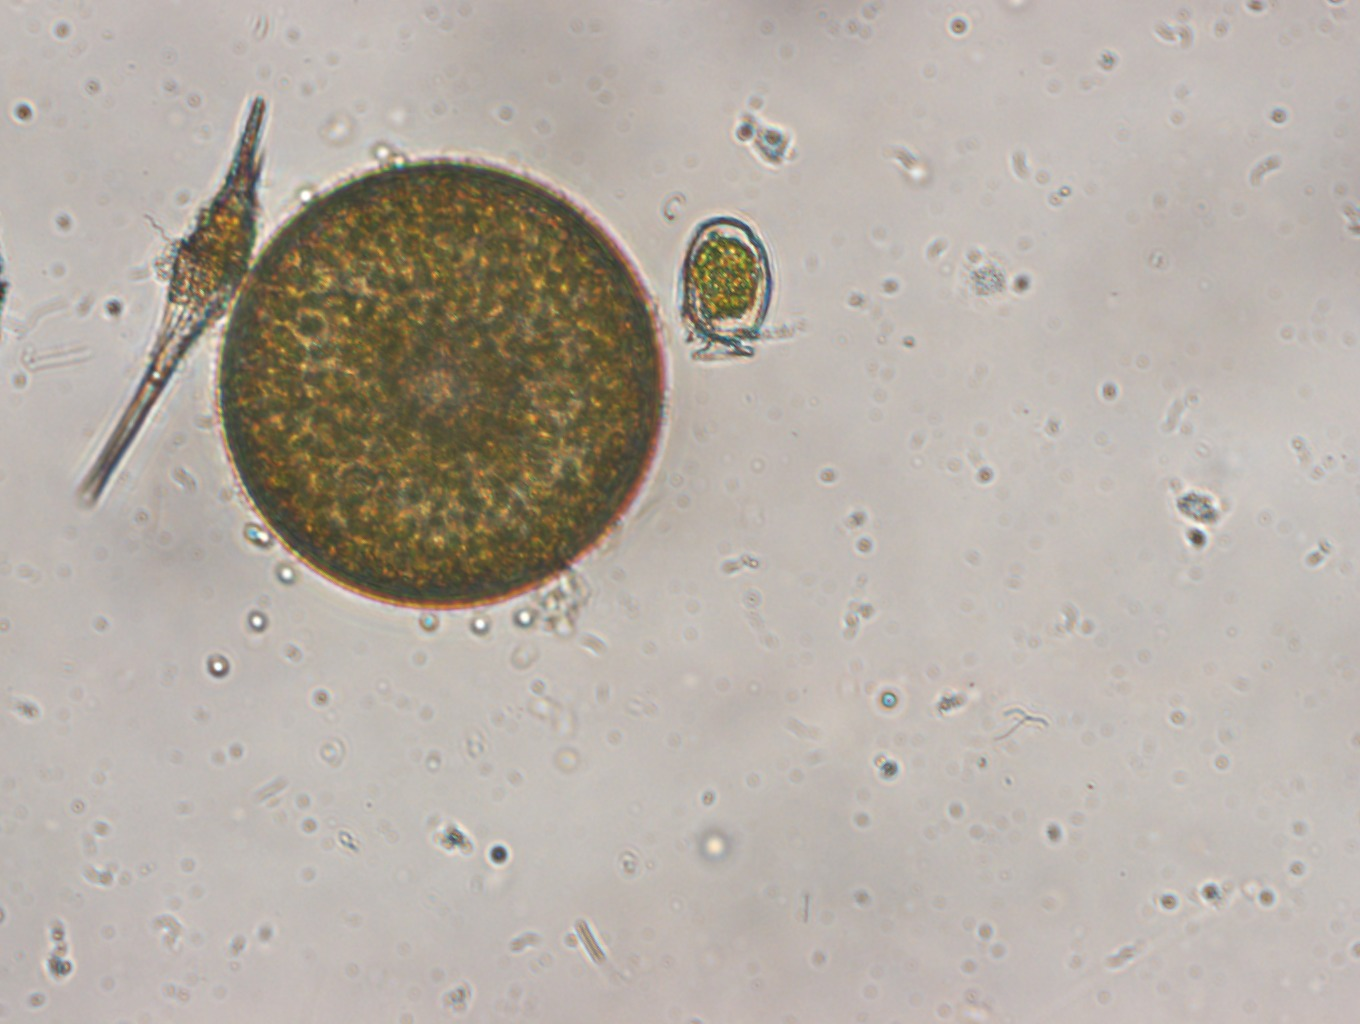ceratium furca: (76, 89, 272, 520)
coscinodiscus: (207, 150, 676, 611)
